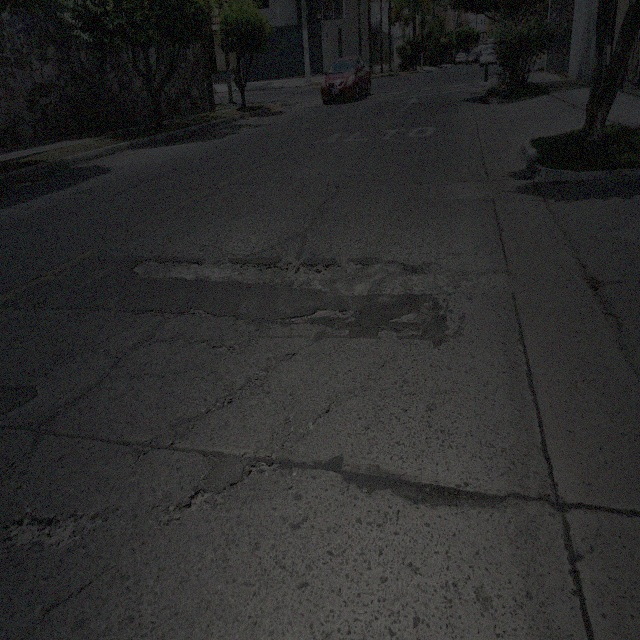pothole: (3, 505, 98, 562), (133, 255, 267, 289), (346, 254, 414, 301), (278, 255, 333, 292), (288, 306, 356, 329), (176, 490, 210, 522), (388, 309, 422, 330)
